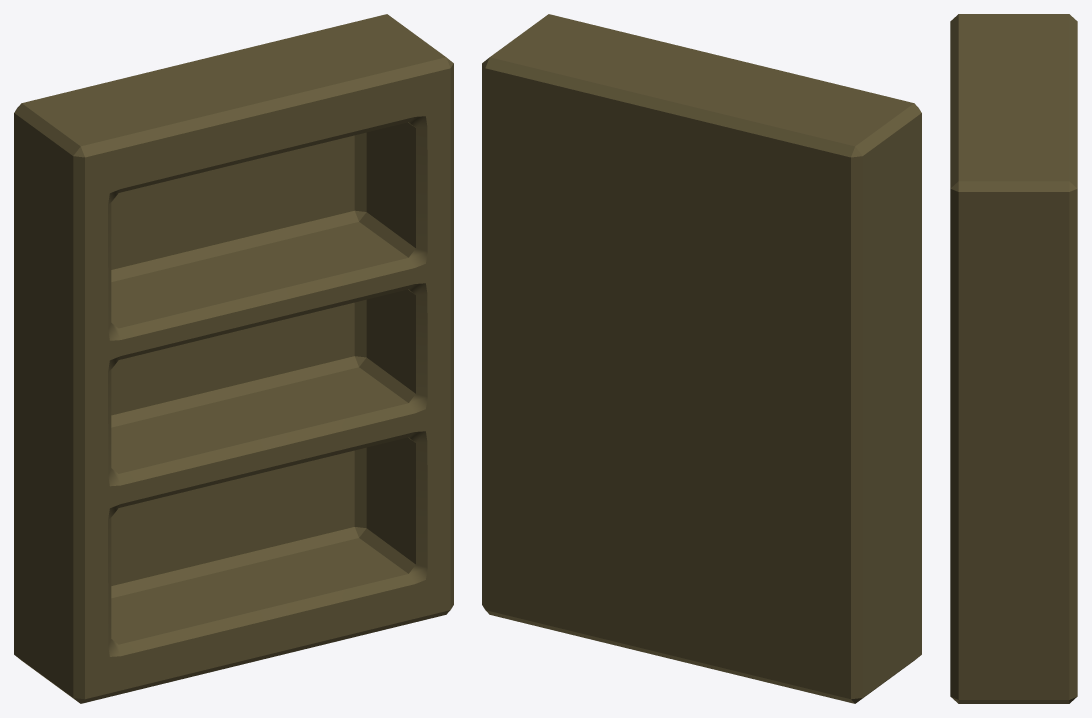
File: Bookcase.fbx
The picture shows the model from 3 angles, left to right: view 1: azimuth 30°, elevation 25°; view 2: azimuth 150°, elevation 25°; view 3: azimuth 270°, elevation 25°; orthographic projection. The views are drawn at different scales.
Visible parts, largest first — view 1: pCube1; view 2: pCube1; view 3: pCube1.
Part boxes in pixels (x1,y1,x2,y2): pCube1: (14, 14, 453, 703); pCube1: (482, 14, 921, 703); pCube1: (950, 14, 1077, 703).
Bounding box in the file's own units: 1.93 × 2.7 × 0.5953.
